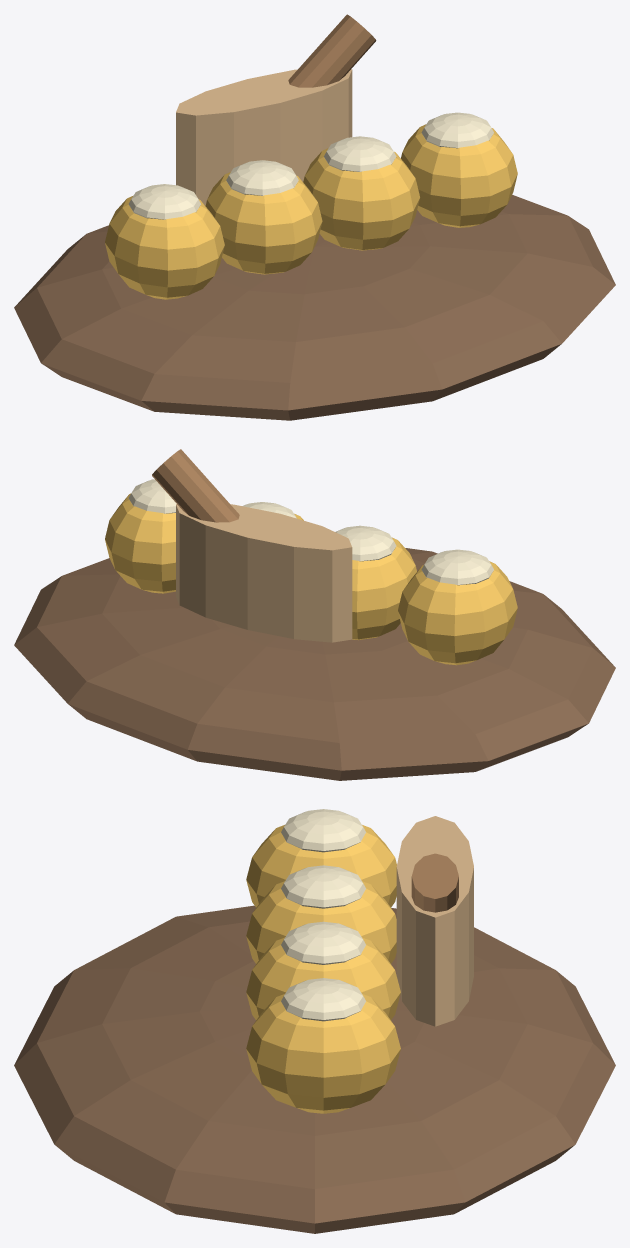
Rendered from SeedMill2.fbx.
3 views of the same model, one above another, from view 1: azimuth 30°, elevation 25°; view 2: azimuth 150°, elevation 25°; view 3: azimuth 270°, elevation 25° (orthographic). The views are drawn at different scales.
Parts seen in each view (by area): view 1: Worksite soil bed.006, Small sorting wheel.001, Golden seed bin.003, Golden seed bin.006, Golden seed bin.004, Golden seed bin.005, Wheel handle.001, Seed cap.003, Seed cap.005, Seed cap.004, Seed cap.006; view 2: Worksite soil bed.006, Small sorting wheel.001, Golden seed bin.003, Golden seed bin.006, Golden seed bin.004, Wheel handle.001, Seed cap.003, Seed cap.004, Seed cap.006; view 3: Worksite soil bed.006, Golden seed bin.006, Small sorting wheel.001, Golden seed bin.005, Golden seed bin.003, Golden seed bin.004, Seed cap.006, Seed cap.003, Seed cap.004, Seed cap.005, Wheel handle.001.
Boxes of the visible parts, bbox=[...] form: Worksite soil bed.006: bbox=[14, 194, 615, 420]; Small sorting wheel.001: bbox=[176, 69, 352, 205]; Golden seed bin.003: bbox=[105, 196, 224, 299]; Golden seed bin.006: bbox=[401, 124, 517, 227]; Golden seed bin.004: bbox=[205, 172, 322, 274]; Golden seed bin.005: bbox=[303, 148, 419, 250]; Wheel handle.001: bbox=[288, 14, 376, 87]; Seed cap.003: bbox=[128, 184, 200, 219]; Seed cap.005: bbox=[324, 136, 396, 171]; Seed cap.004: bbox=[226, 160, 298, 195]; Seed cap.006: bbox=[421, 112, 493, 148]; Worksite soil bed.006: bbox=[14, 548, 615, 780]; Small sorting wheel.001: bbox=[176, 504, 352, 642]; Golden seed bin.003: bbox=[398, 561, 517, 665]; Golden seed bin.006: bbox=[105, 493, 175, 593]; Golden seed bin.004: bbox=[352, 537, 416, 640]; Wheel handle.001: bbox=[152, 449, 239, 522]; Seed cap.003: bbox=[421, 549, 493, 585]; Seed cap.004: bbox=[335, 525, 396, 561]; Seed cap.006: bbox=[128, 479, 176, 513]; Worksite soil bed.006: bbox=[14, 905, 615, 1233]; Golden seed bin.006: bbox=[246, 994, 400, 1113]; Small sorting wheel.001: bbox=[396, 816, 473, 1026]; Golden seed bin.005: bbox=[246, 937, 400, 1019]; Golden seed bin.003: bbox=[246, 825, 396, 907]; Golden seed bin.004: bbox=[246, 881, 396, 963]; Seed cap.006: bbox=[281, 978, 365, 1021]; Seed cap.003: bbox=[281, 809, 365, 852]; Seed cap.004: bbox=[281, 865, 365, 908]; Seed cap.005: bbox=[281, 921, 365, 964]; Wheel handle.001: bbox=[411, 853, 458, 912].
Size of the model in its own units: 174 by 82.21 by 140.
